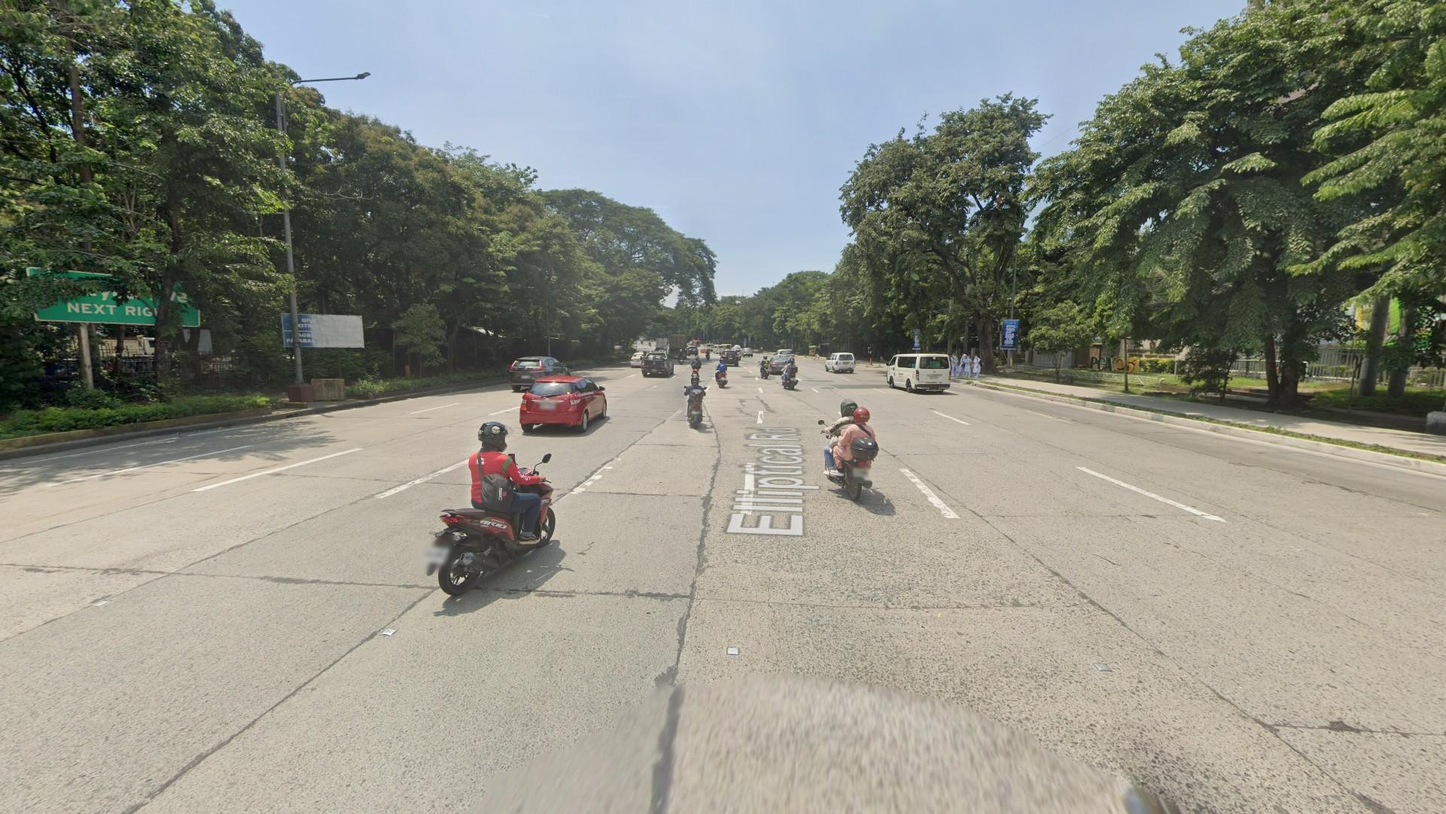pedestrian: (956, 352, 967, 378), (972, 354, 983, 378), (963, 355, 972, 379), (951, 351, 958, 376), (760, 346, 764, 352)
